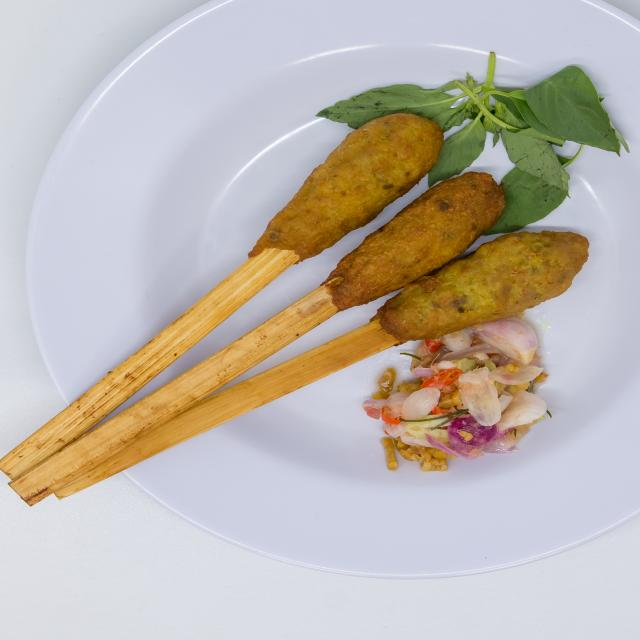Sate-Lilit: (116, 21, 620, 502)
